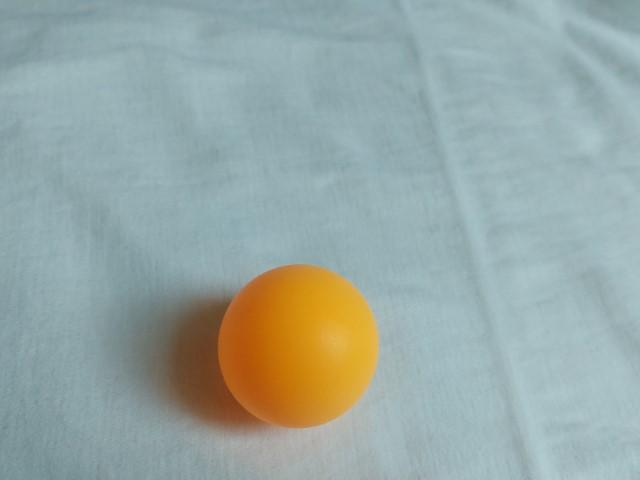oball: (205, 259, 391, 438)
